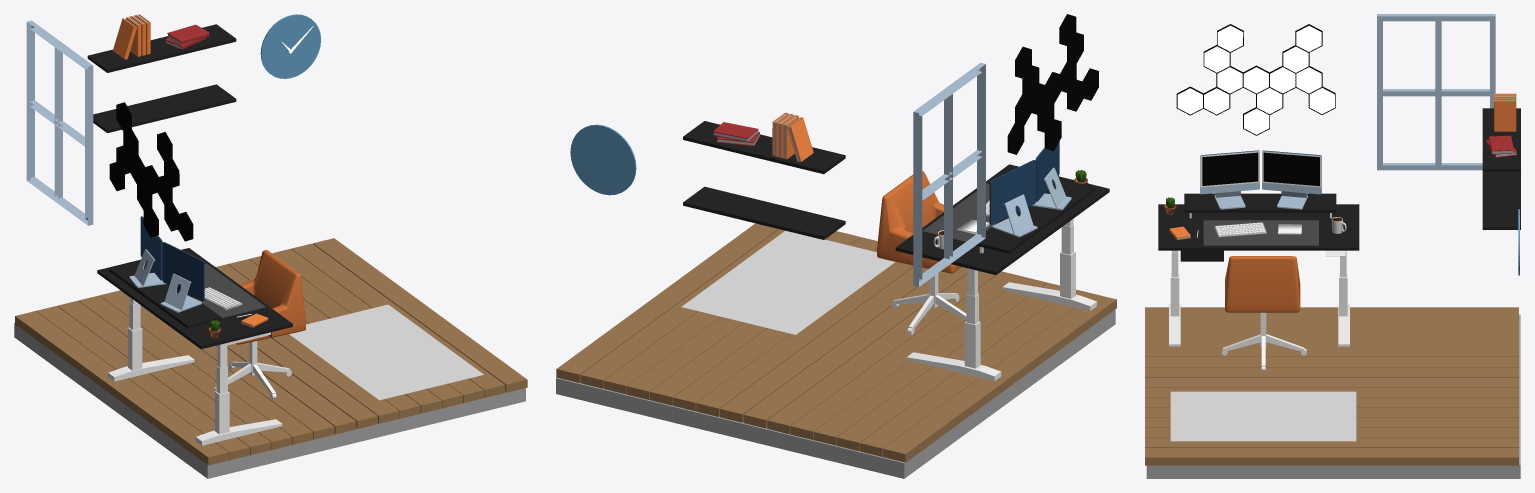
File: roomwebsite.glb
The picture shows the model from 3 angles, left to right: view 1: azimuth 30°, elevation 25°; view 2: azimuth 150°, elevation 25°; view 3: azimuth 270°, elevation 25°; orthographic projection. The views are drawn at different scales.
Visible parts, largest first — view 1: woodenFloor, carpet, floor, wallTwo, hexagonalLights, deskLegs, mainDeskTable, chair, Circle, shelfOne, computerTwo, shelfTwo (+5 smaller); view 2: woodenFloor, carpet, floor, wallTwo, hexagonalLights, deskLegs, Circle, shelfOne, mainDeskTable, chair, computerOne, shelfTwo (+6 smaller); view 3: woodenFloor, carpet, hexagonalLights, floor, wallTwo, mainDeskTable, chair, computerTwo, computerOne, deskMat, standDeskTable, shelfOne (+7 smaller).
Boxes of the visible parts, x1=… form: woodenFloor: x1=15, y1=238, x2=527, y2=465; carpet: x1=289, y1=304, x2=483, y2=400; floor: x1=14, y1=323, x2=525, y2=478; wallTwo: x1=26, y1=20, x2=93, y2=225; hexagonalLights: x1=109, y1=102, x2=193, y2=241; deskLegs: x1=108, y1=297, x2=282, y2=445; mainDeskTable: x1=97, y1=248, x2=292, y2=349; chair: x1=235, y1=250, x2=305, y2=344; Circle: x1=260, y1=14, x2=320, y2=78; shelfOne: x1=93, y1=84, x2=236, y2=133; computerTwo: x1=160, y1=242, x2=204, y2=312; shelfTwo: x1=87, y1=24, x2=236, y2=72; woodenFloor: x1=556, y1=223, x2=1116, y2=462; carpet: x1=681, y1=230, x2=894, y2=334; floor: x1=556, y1=309, x2=1115, y2=478; wallTwo: x1=913, y1=62, x2=985, y2=286; hexagonalLights: x1=1007, y1=14, x2=1098, y2=154; deskLegs: x1=906, y1=219, x2=1096, y2=381; Circle: x1=570, y1=124, x2=636, y2=195; shelfOne: x1=683, y1=186, x2=845, y2=239; mainDeskTable: x1=895, y1=164, x2=1109, y2=274; chair: x1=877, y1=171, x2=961, y2=273; computerOne: x1=989, y1=160, x2=1037, y2=237; shelfTwo: x1=683, y1=121, x2=845, y2=174; woodenFloor: x1=1145, y1=307, x2=1518, y2=465; carpet: x1=1170, y1=391, x2=1356, y2=441; hexagonalLights: x1=1176, y1=24, x2=1335, y2=135; floor: x1=1146, y1=314, x2=1520, y2=478; wallTwo: x1=1377, y1=14, x2=1495, y2=170; mainDeskTable: x1=1158, y1=204, x2=1359, y2=250; chair: x1=1225, y1=256, x2=1300, y2=312; computerTwo: x1=1200, y1=150, x2=1259, y2=209; computerOne: x1=1262, y1=150, x2=1321, y2=209; deskMat: x1=1203, y1=220, x2=1318, y2=245; standDeskTable: x1=1184, y1=193, x2=1336, y2=212; shelfOne: x1=1482, y1=172, x2=1520, y2=229.
Size of the model in its own units: 1.74 by 1.69 by 1.83.
